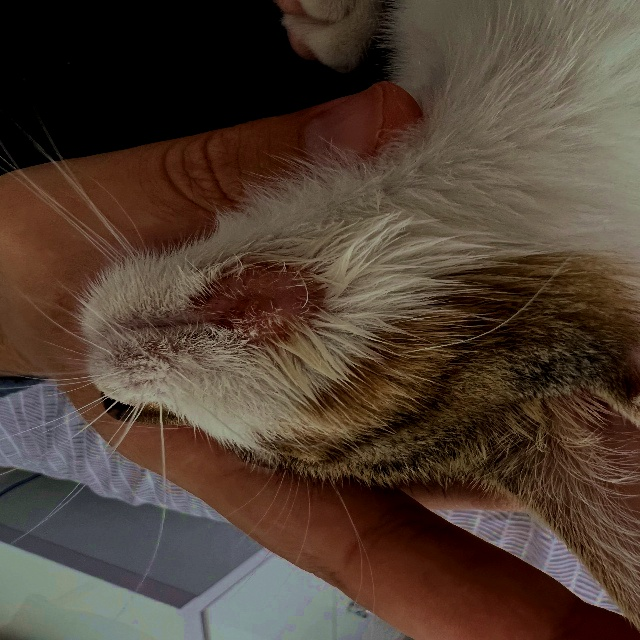ringworm: (209, 258, 336, 342)
